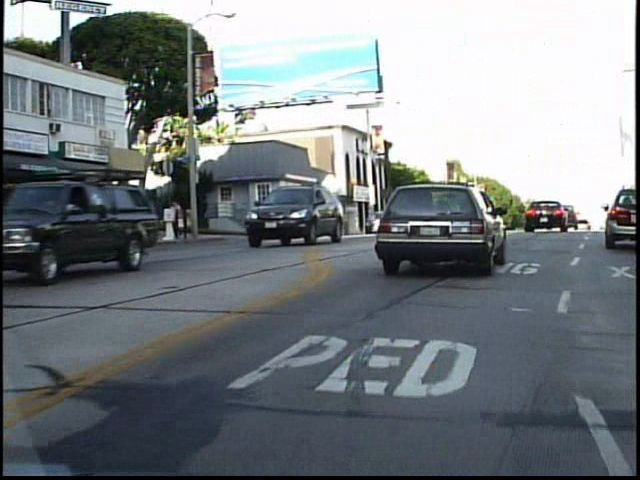person: (173, 196, 195, 242)
